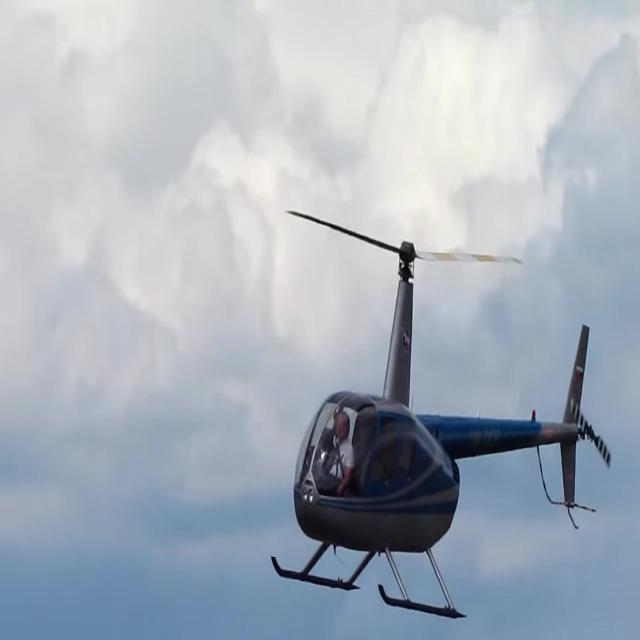CIV_HELO: (268, 241, 592, 619)
